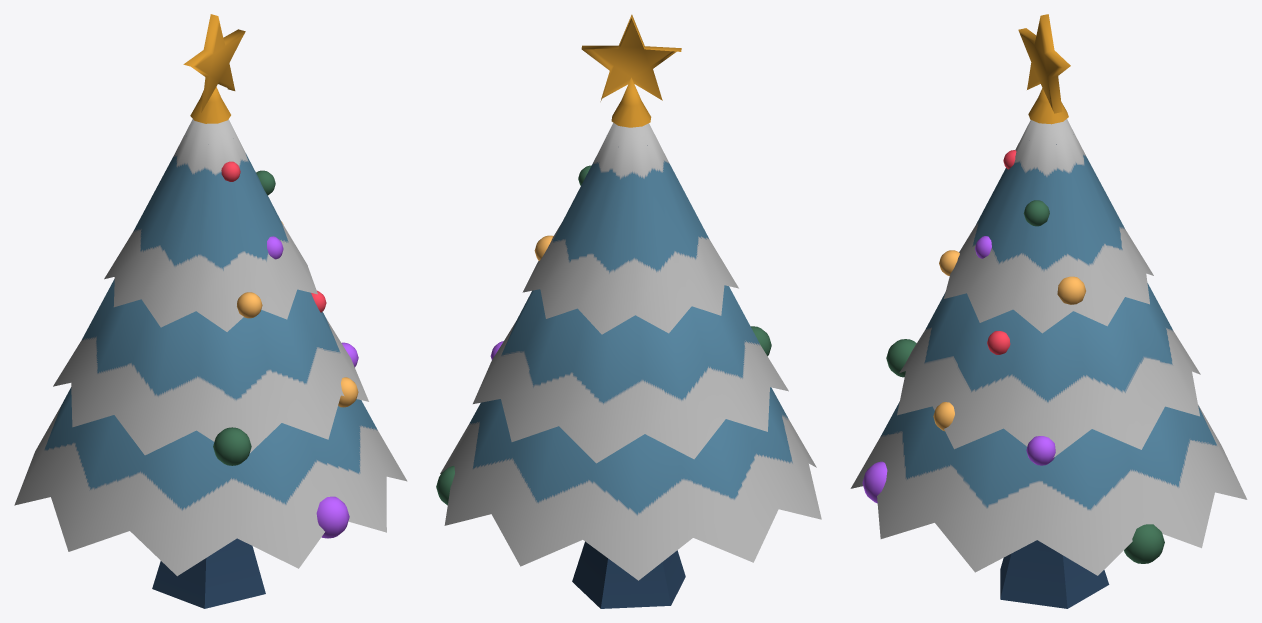
File: TreeSmallChristmas.glb
3 views of the same model, side by side, from view 1: azimuth 30°, elevation 25°; view 2: azimuth 150°, elevation 25°; view 3: azimuth 270°, elevation 25° (orthographic).
Parts seen in each view (by area): view 1: tree small, Circle.003; view 2: tree small, Circle.003; view 3: tree small, Circle.003.
Part boxes in pixels (bbox=[...]): tree small: bbox=[14, 119, 407, 608]; Circle.003: bbox=[183, 14, 358, 538]; tree small: bbox=[440, 123, 821, 608]; Circle.003: bbox=[436, 14, 771, 505]; tree small: bbox=[850, 119, 1247, 608]; Circle.003: bbox=[862, 14, 1164, 563].
Size of the model in its own units: 1.04 by 1.7 by 1.07.
Materials: 2 (2 with a texture image).
